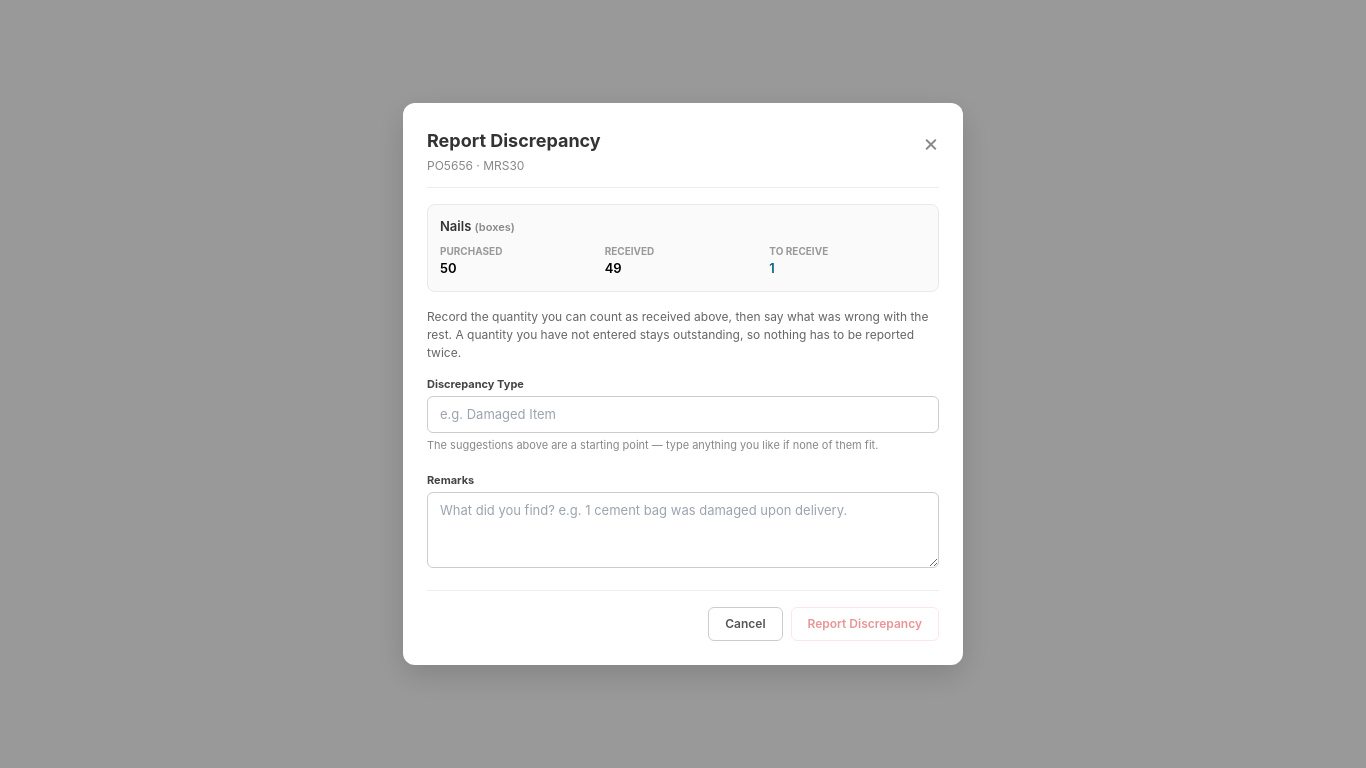
Test case: the suggestion list is a convenience, never a constraint › tapping a suggestion fills the field
The width and height of the screenshot is (1366, 768).
Focus the field labelled "Discrepancy Type" at (683, 415), box top-left (427, 396), bottom-right (939, 433)
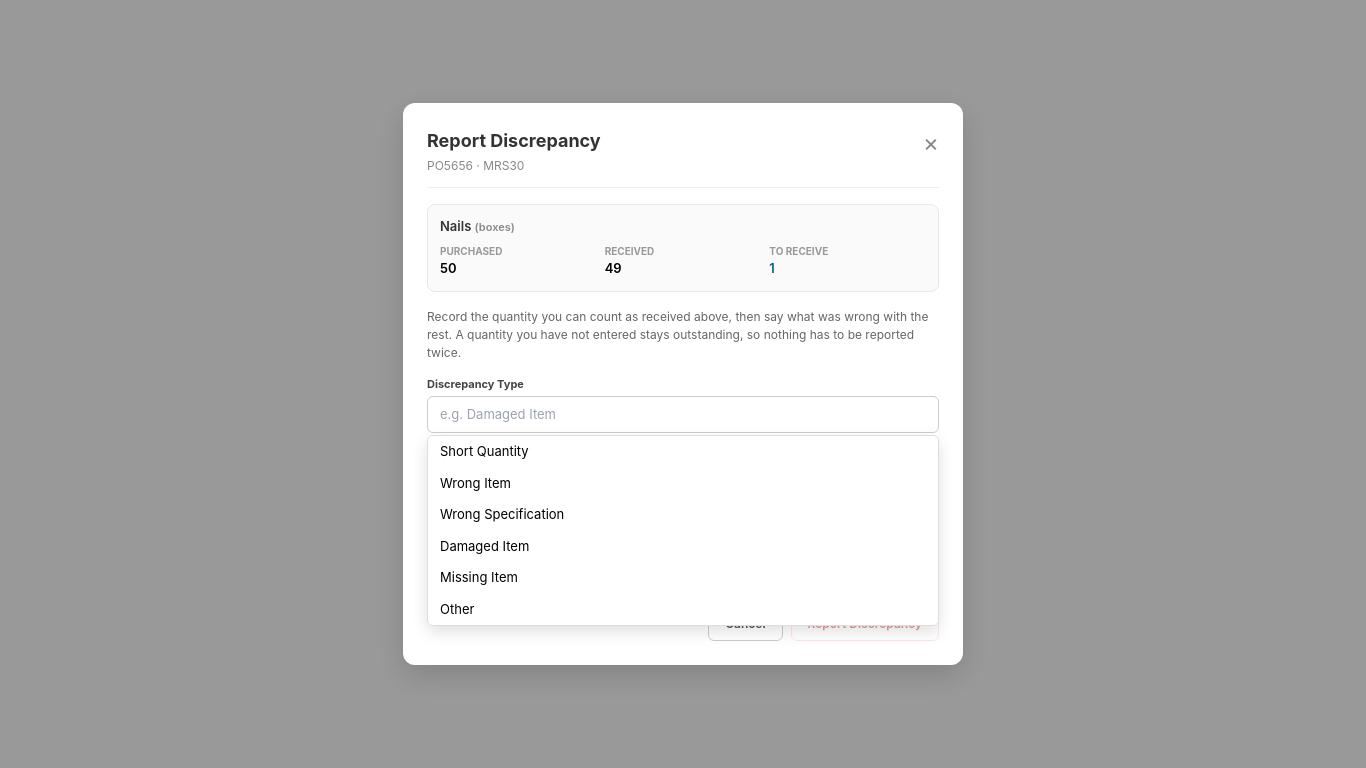
Press the mouse on the button "Damaged Item" at (485, 546), box top-left (428, 531), bottom-right (938, 562)
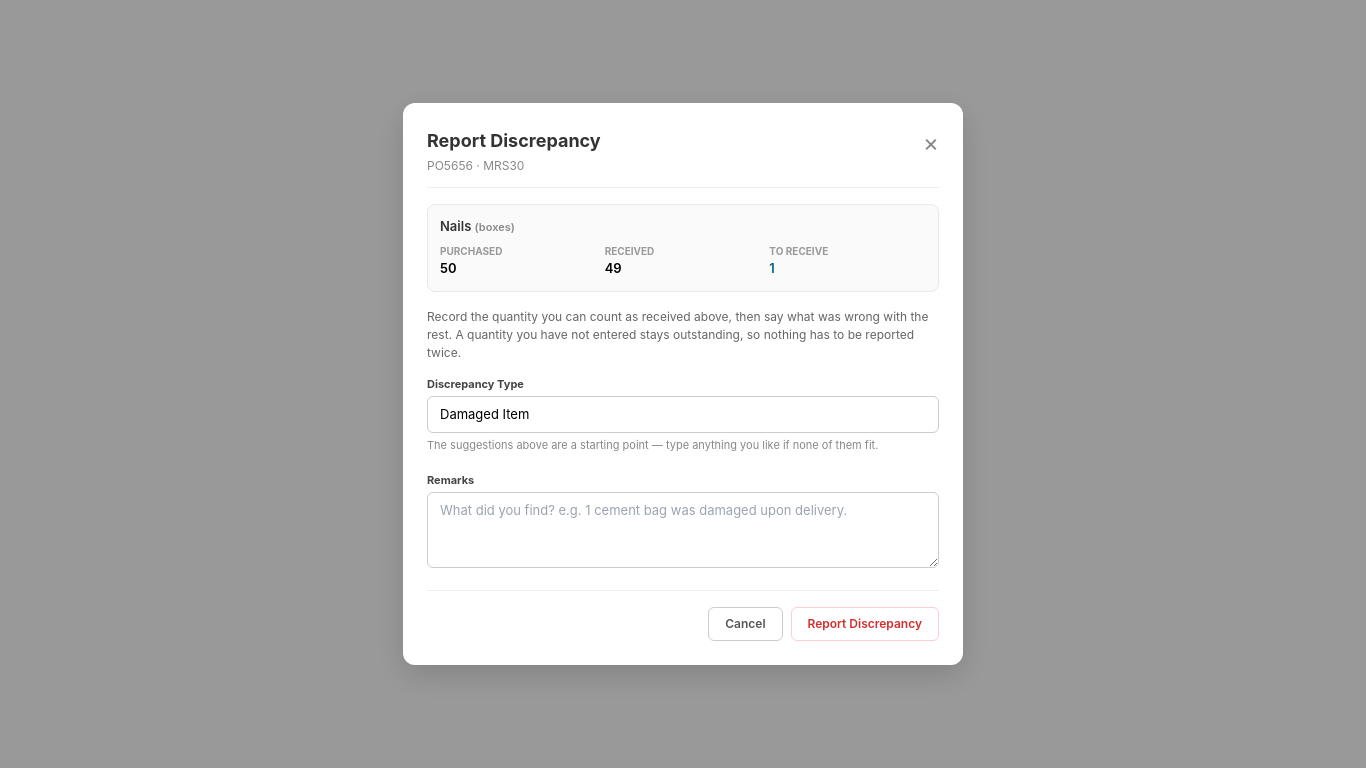
Expected: the field labelled "Discrepancy Type" holds "Damaged Item", top-left (427, 396), bottom-right (939, 433)
